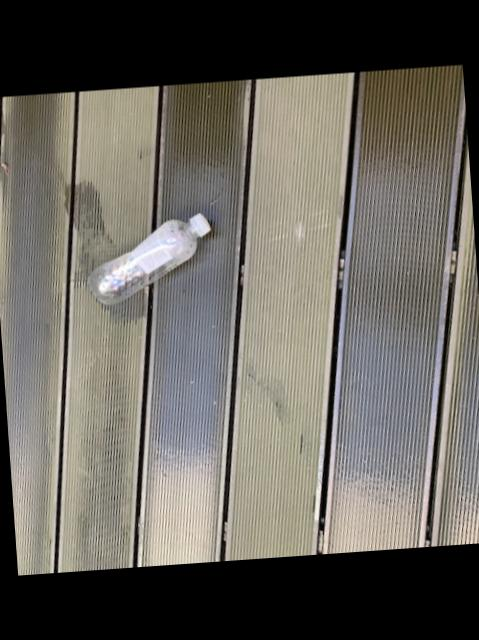plastic: (85, 215, 207, 306)
